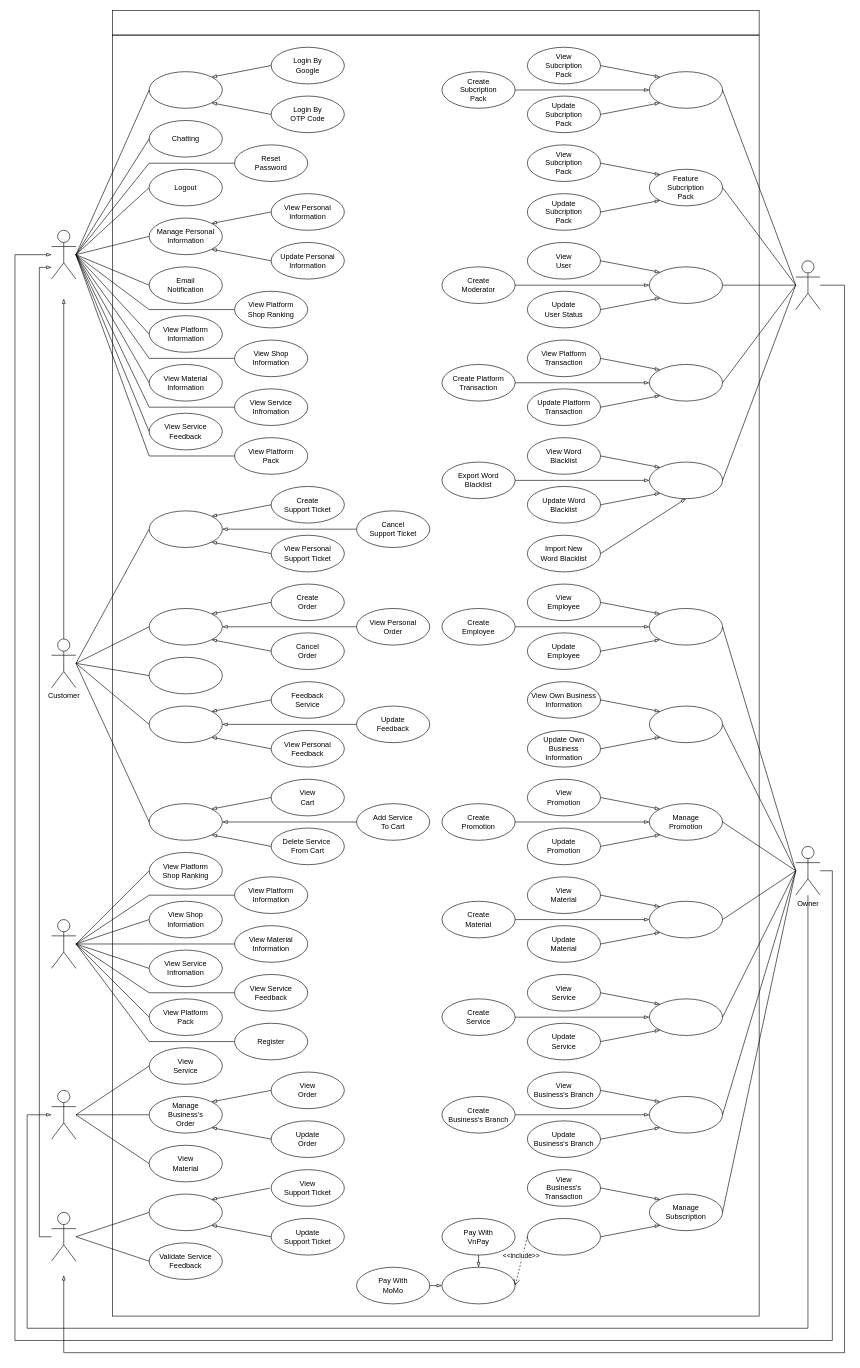
Image size: 860x1368. Some labels were removed from this diagram. Each missing label, with the centre of its shape:
Admin: (807,285)
Employee: (63,1114)
Guest: (63,943)
Login: (185,89)
Manage Business Employee: (686,626)
Manage Business's Branch: (686,1114)
Manage Cart: (185,821)
Manage Feedback: (185,724)
Manage Material: (686,919)
Manage Own Business Information: (686,724)
Manage Personal Order: (185,626)
Manage Personal Support Ticket: (185,528)
Manage Shoe Service: (686,1016)
Manage Subcription Pack: (686,89)
Manage Support Ticket: (185,1212)
Manage Transaction: (686,382)
Manage User: (686,284)
Manage Word Blacklist: (686,480)
Morderator: (63,1236)
Owner Register: (185,675)
Payment: (478,1285)
Register Pack: (564,1236)
Registered User: (63,254)
The Platform Provide Shoe Cleaning Service: (435,22)
